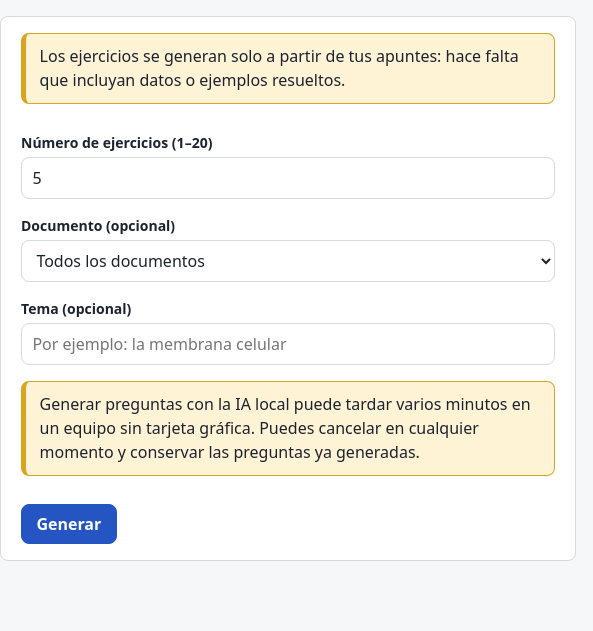
Test: Ejercicios: formulario › el número no válido avisa con la palabra "ejercicios" y no genera
The image size is (593, 631).
Replace the text in the number field labelled "Número de ejercicios (1–20)" with "0" at (288, 178), box [21, 157, 555, 199]
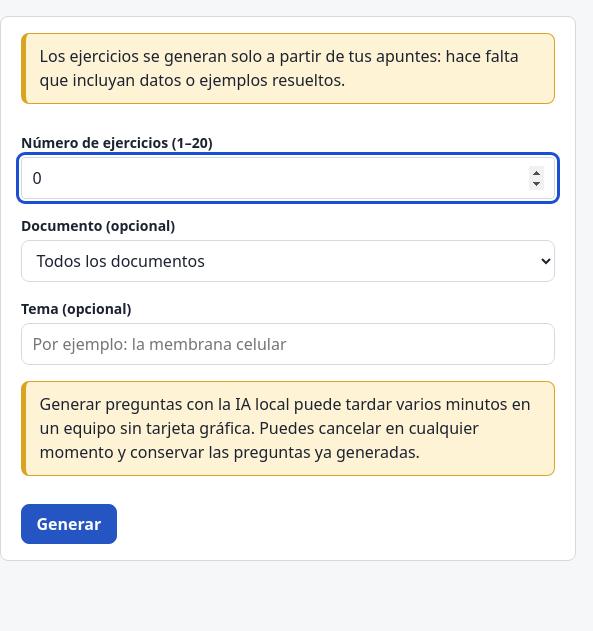
Click the button "Generar" at (69, 524), box [21, 504, 117, 544]
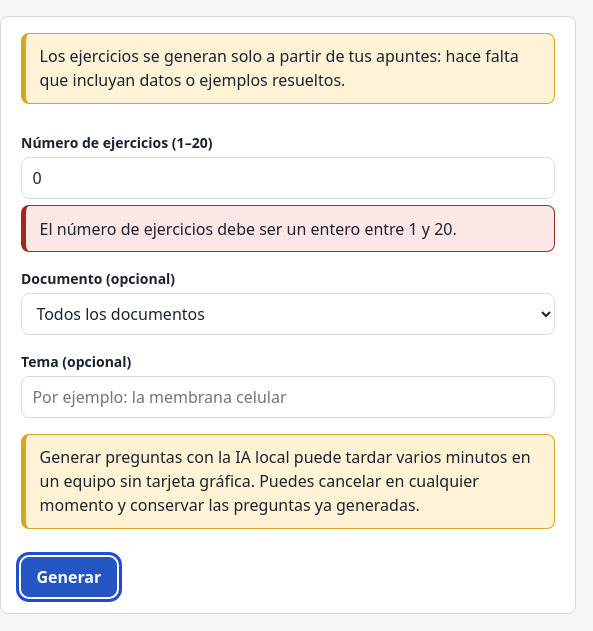
Result: the message reads "El número de ejercicios debe ser un entero entre 1 y 20." at [40, 218, 457, 240]
